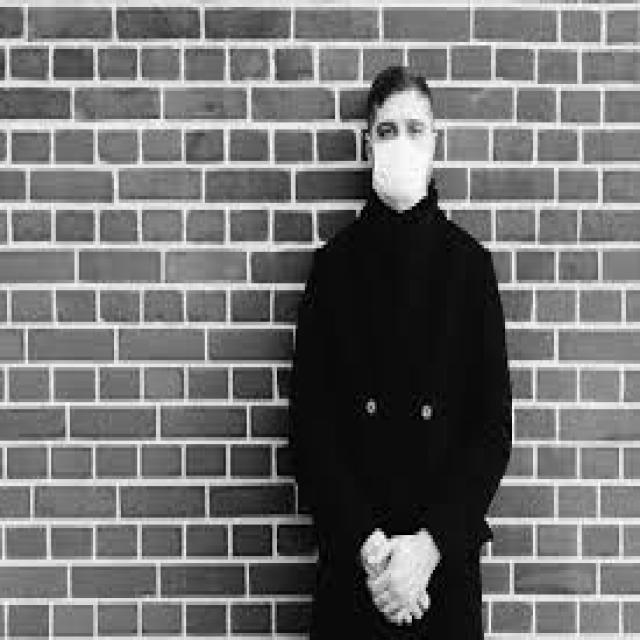with_mask: (370, 133, 433, 213)
